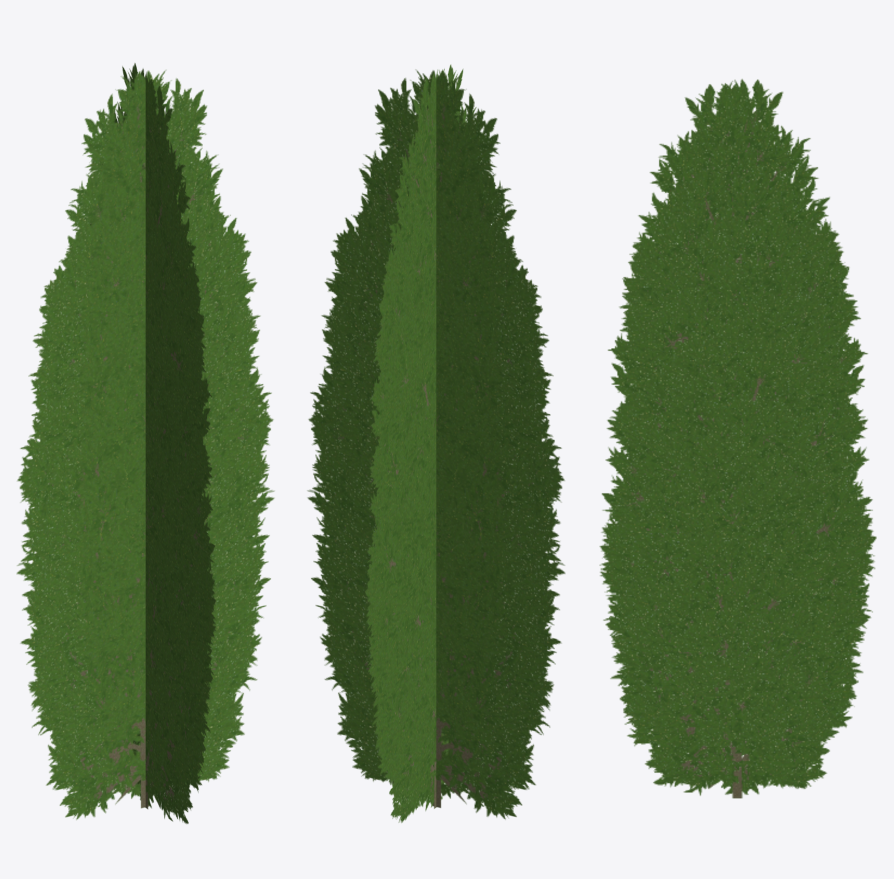
The model's file is LigustrumOvalifolium.glb.
3 renders of one model, left to right at view 1: azimuth 30°, elevation 25°; view 2: azimuth 150°, elevation 25°; view 3: azimuth 270°, elevation 25°, orthographic. The views are drawn at different scales.
Parts seen in each view (by area): view 1: mesh__mat_billboard_4; view 2: mesh__mat_billboard_4; view 3: mesh__mat_billboard_4.
Part boxes in pixels (x1,y1,x2,y2): mesh__mat_billboard_4: (16,63,274,823); mesh__mat_billboard_4: (307,64,565,822); mesh__mat_billboard_4: (599,79,876,798).
Bounding box in the file's own units: 1.14 × 3.09 × 1.1.
Materials: 1 (1 with a texture image).
